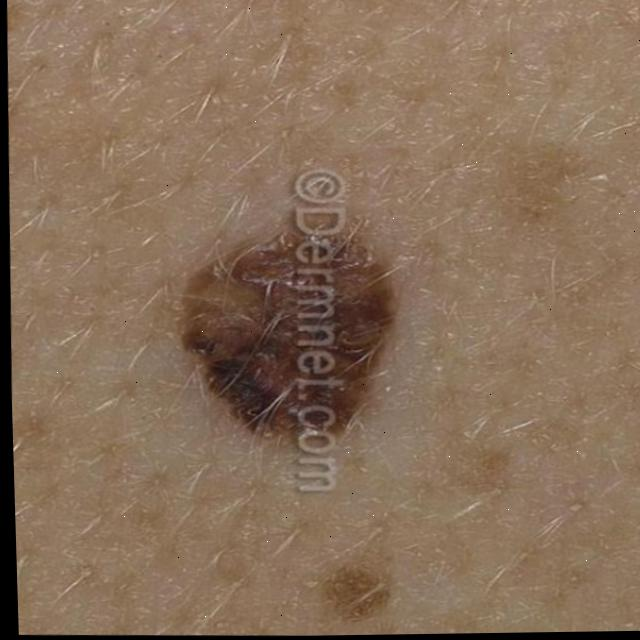Eczema: (99, 143, 443, 490)
